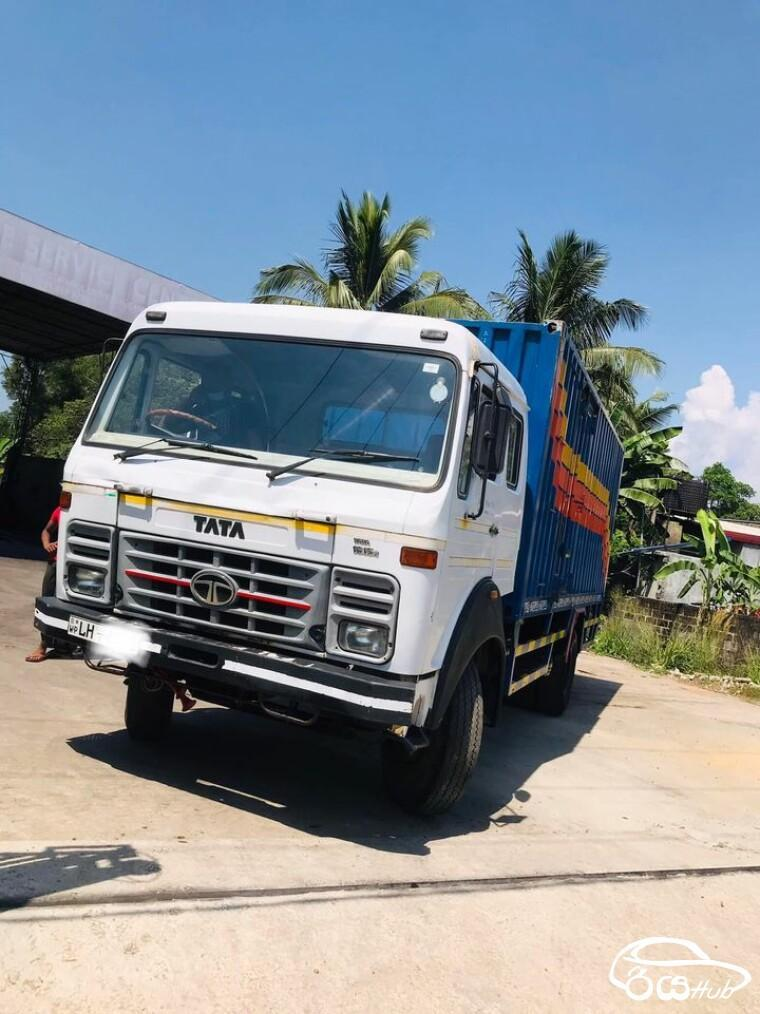truck: (32, 299, 626, 820)
